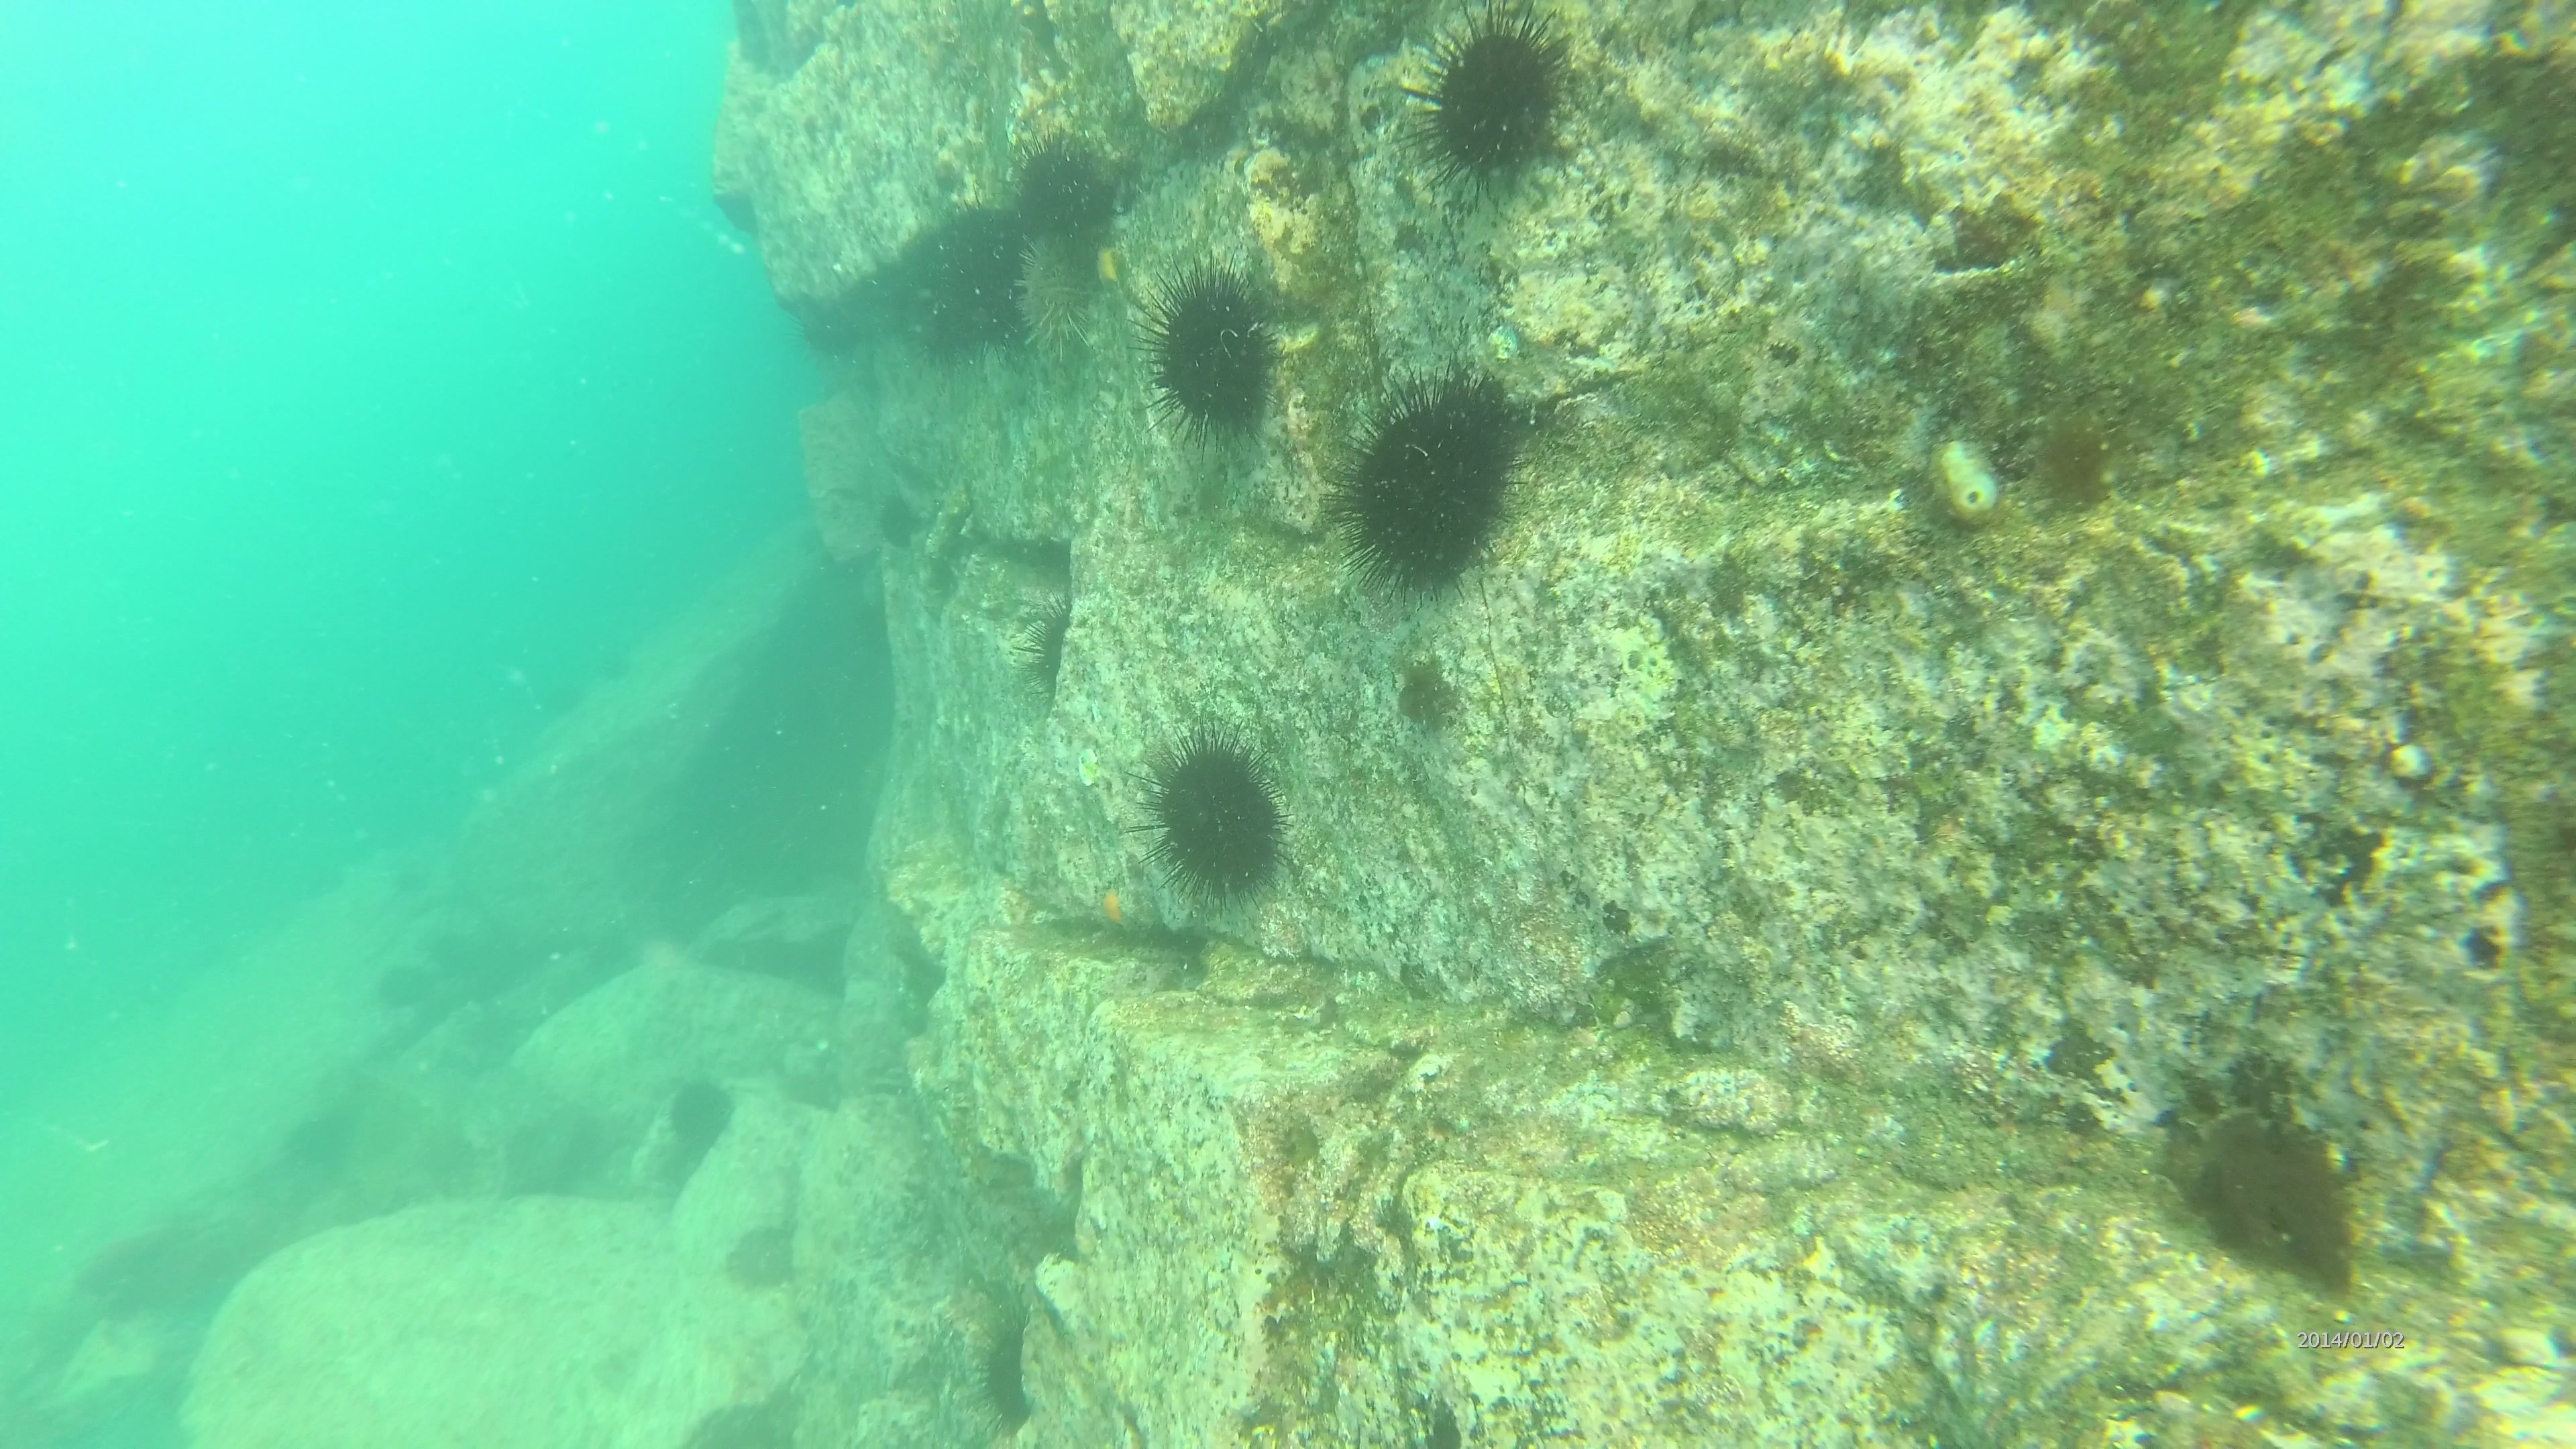echinus: (1343, 357, 1532, 609), (1407, 0, 1573, 193), (1138, 257, 1288, 444), (1141, 736, 1284, 918), (927, 195, 1040, 356), (1008, 230, 1099, 354), (1008, 133, 1097, 239), (1014, 589, 1085, 713), (966, 1320, 1044, 1430), (660, 1074, 741, 1155), (366, 954, 448, 1035), (720, 1214, 800, 1295), (400, 909, 479, 991)
